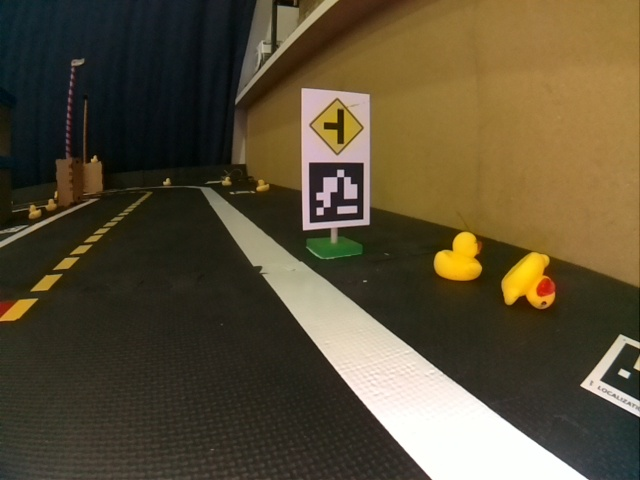Duckie: (501, 252, 556, 309), (435, 232, 478, 281), (28, 204, 42, 218), (257, 179, 269, 191), (162, 177, 172, 187), (47, 198, 54, 211), (89, 155, 99, 164), (222, 176, 231, 185)
Intersection sign: (308, 97, 366, 155)
QR code: (581, 333, 639, 404), (308, 163, 368, 226)
